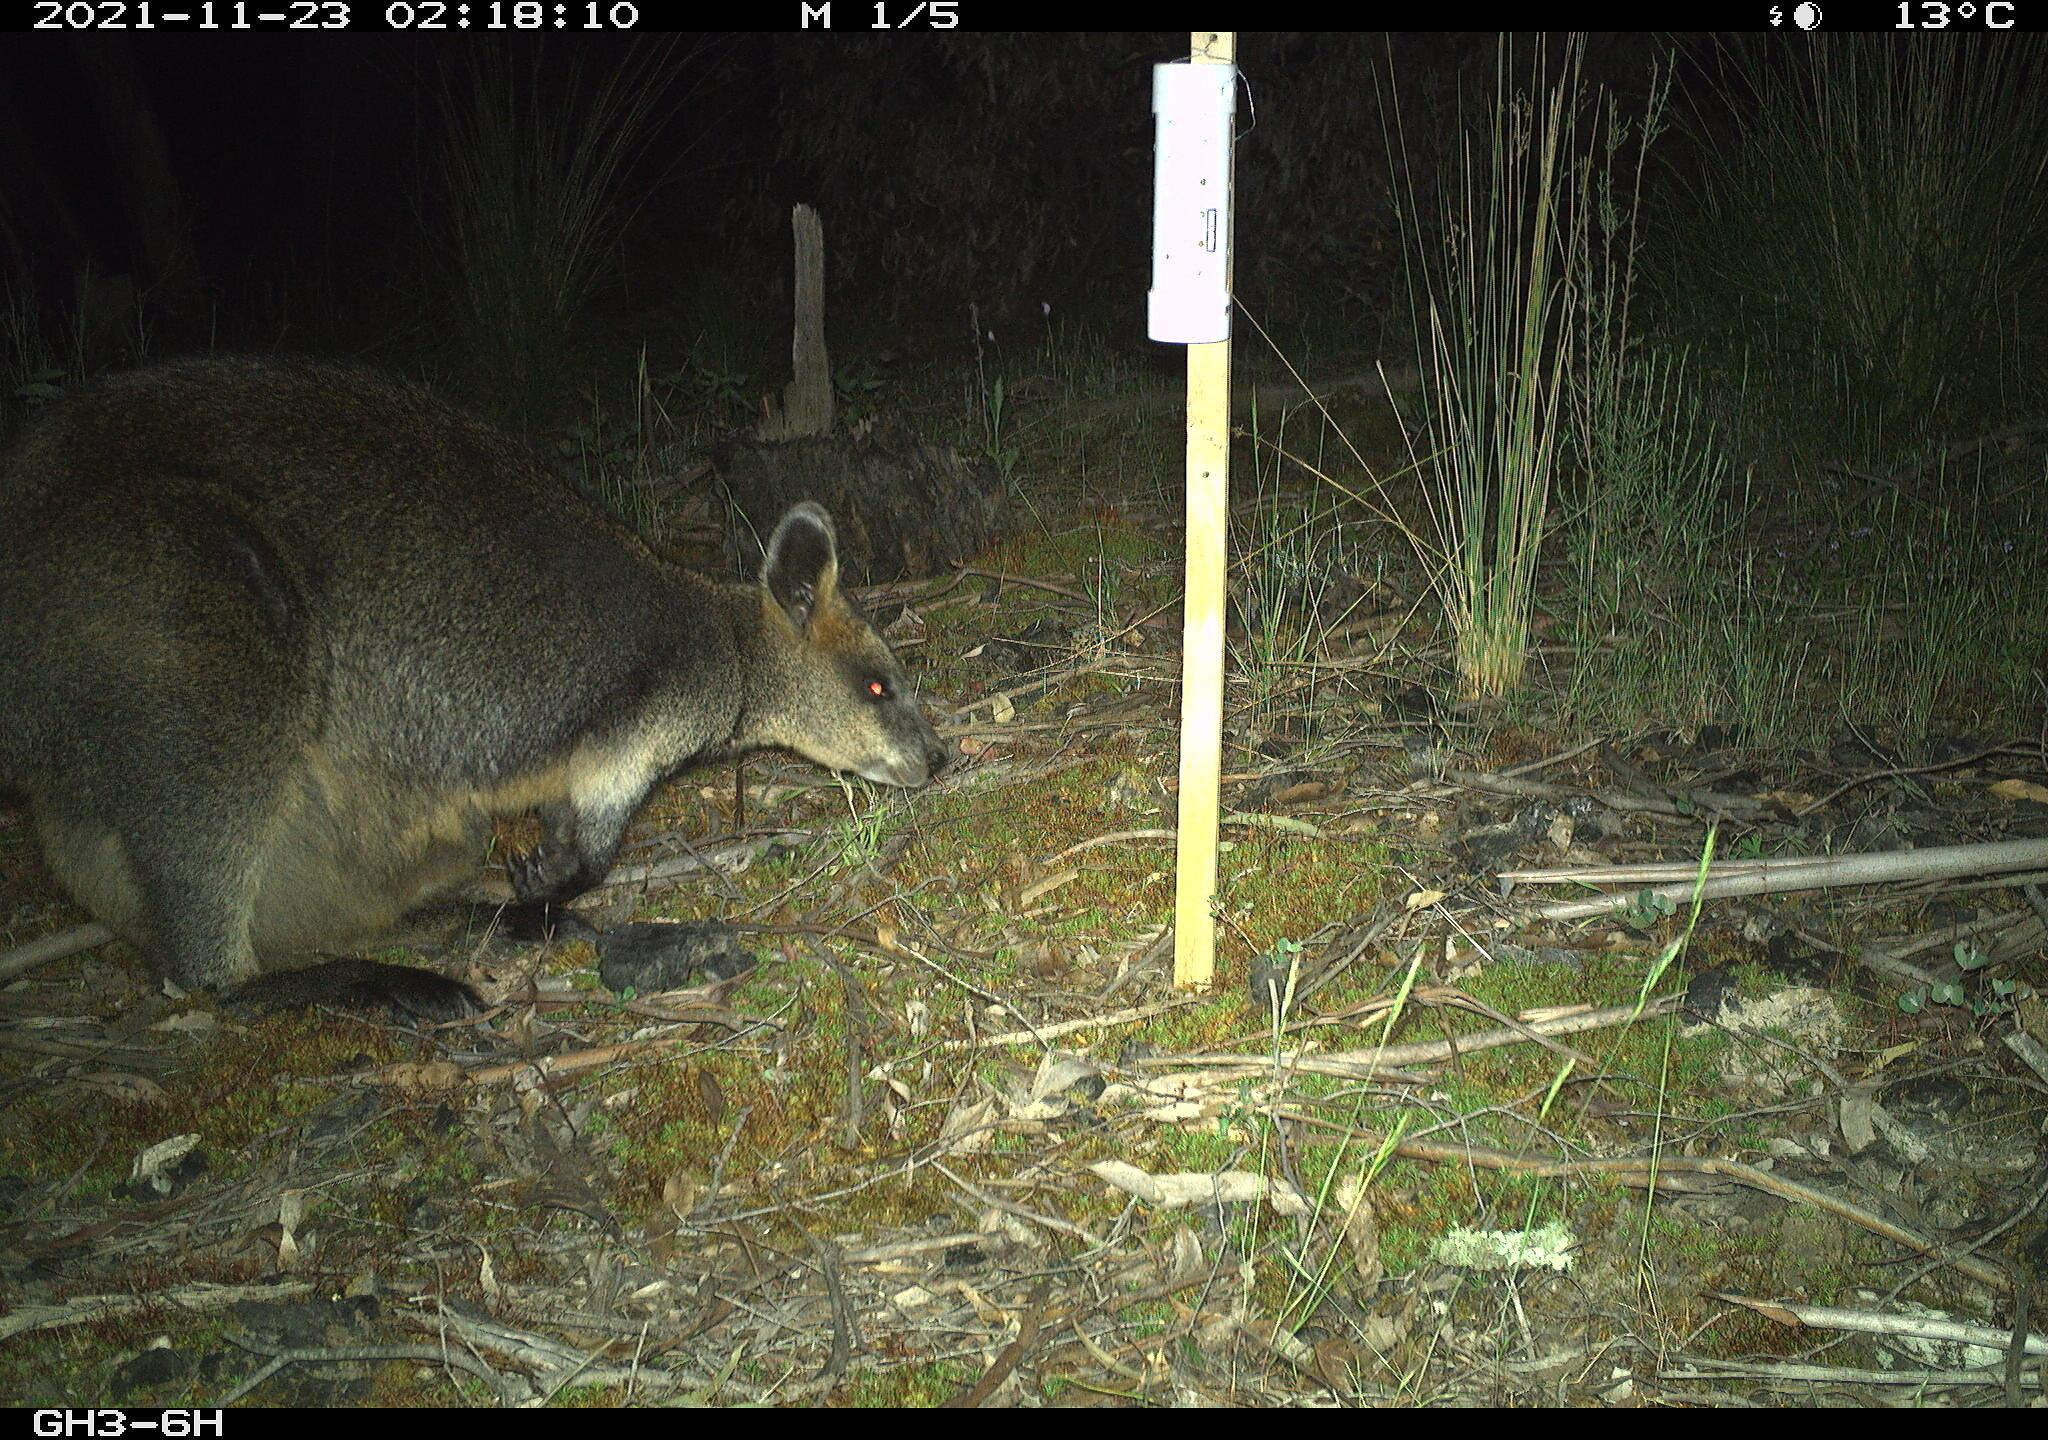Swamp wallaby: (5, 368, 954, 1060)
